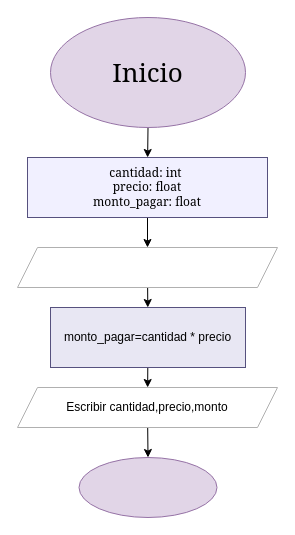
The diagram is 295 pixels wide and 535 high, and some of its shapes have lost their labels. The box of each missing label's shape, as (x1, y1, x2, y2) in pixels:
Fin: (78, 456, 217, 518)
Leer cantidad,precio: (16, 246, 278, 288)
